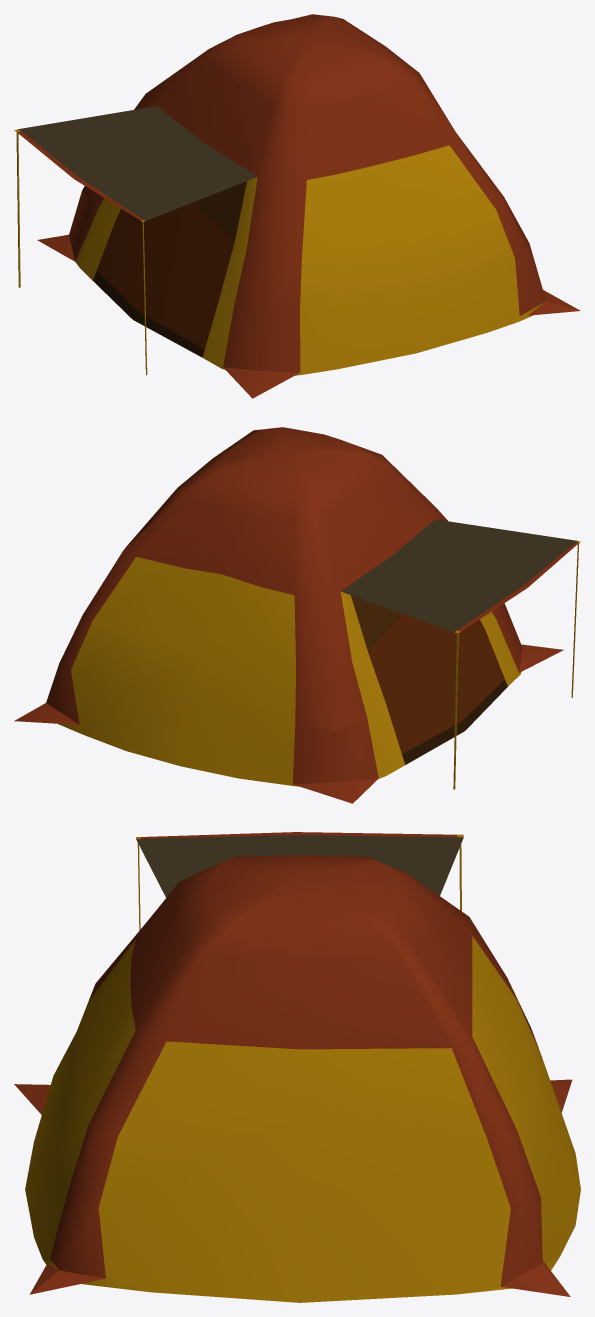
File: tent2.fbx
The picture shows the model from 3 angles, top to bottom: view 1: azimuth 30°, elevation 25°; view 2: azimuth 150°, elevation 25°; view 3: azimuth 270°, elevation 25°; orthographic projection. The views are drawn at different scales.
Visible parts, largest first — view 1: pCone1; view 2: pCone1; view 3: pCone1.
Boxes of the visible parts, x1,y1,x2,y2 form: pCone1: (14, 14, 580, 398); pCone1: (14, 427, 580, 803); pCone1: (14, 832, 580, 1302).
Bounding box in the file's own units: 9.1 × 5.04 × 8.2.
